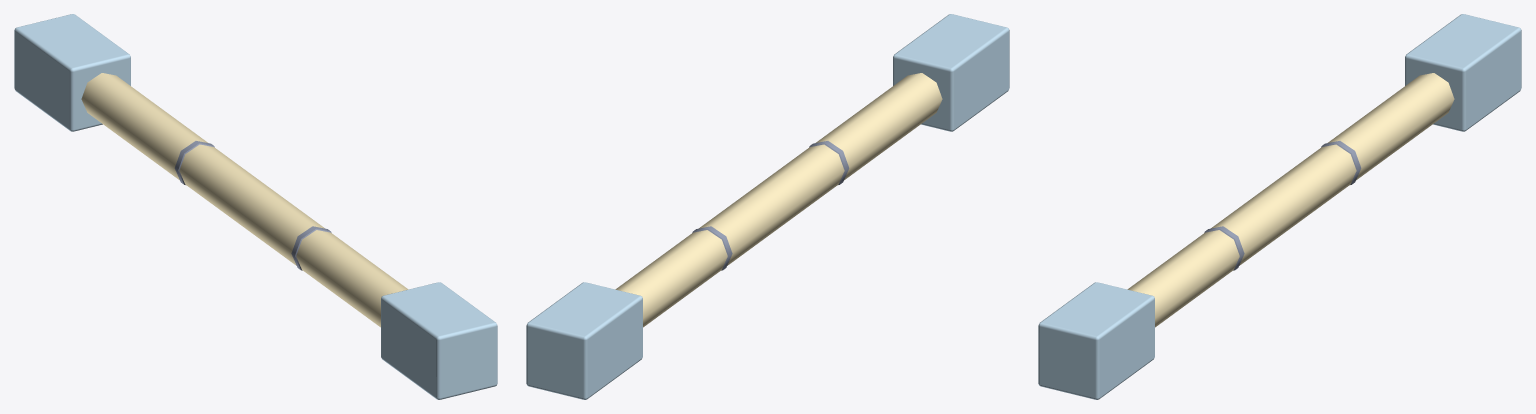
The model's file is R4C_ROD_LONG.glb.
The picture shows the model from 3 angles, left to right: view 1: azimuth 30°, elevation 25°; view 2: azimuth 150°, elevation 25°; view 3: azimuth 330°, elevation 25°; orthographic projection.
Visible parts, largest first — view 1: R4C_ROD_LONG; view 2: R4C_ROD_LONG; view 3: R4C_ROD_LONG.
Part boxes in pixels (box(x1,y1,x2,y2)): R4C_ROD_LONG: box(14, 14, 497, 399); R4C_ROD_LONG: box(526, 14, 1009, 399); R4C_ROD_LONG: box(1038, 14, 1521, 399).
Size of the model in its own units: 0.226 by 0.226 by 2.72.
